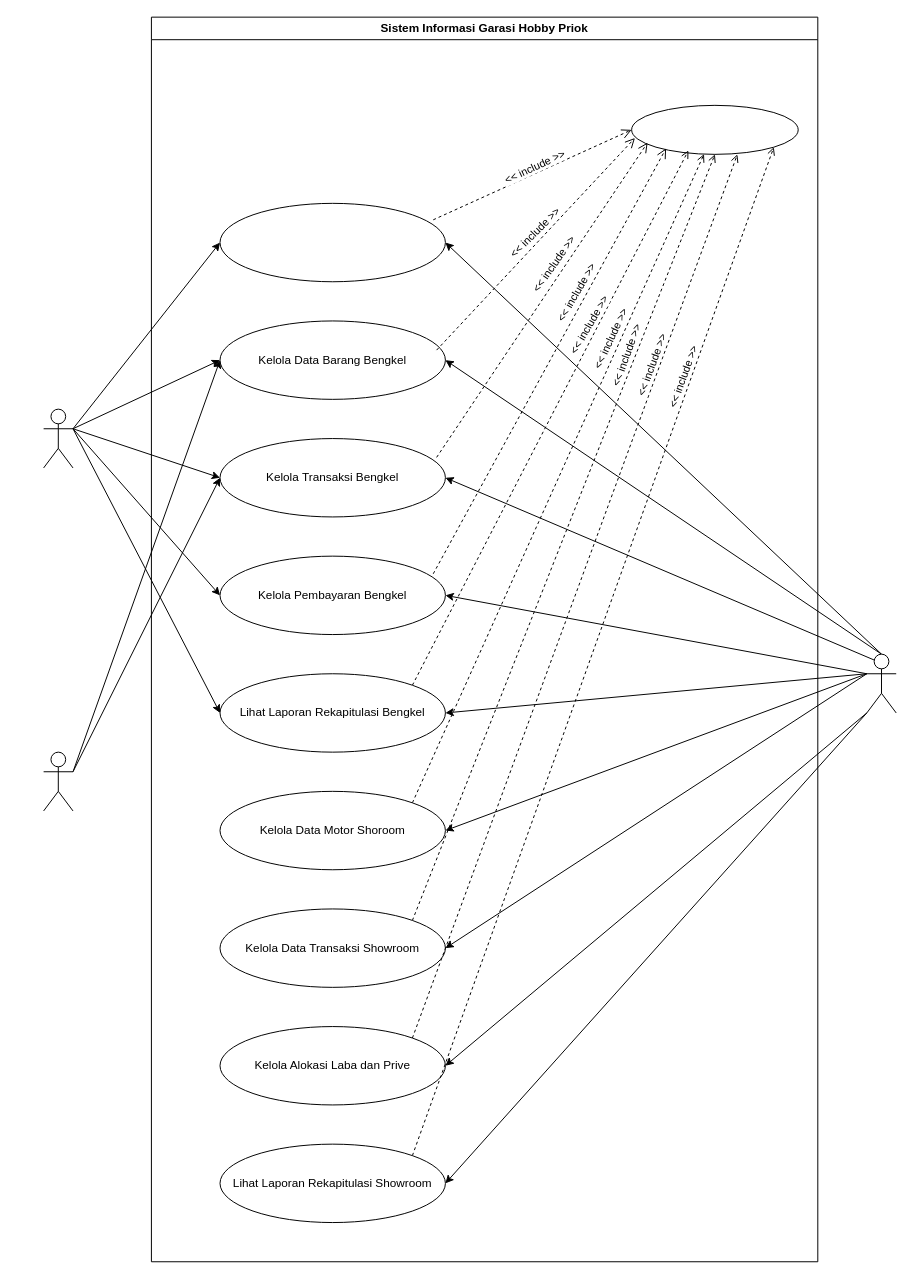
Image size: 915x1279. Some labels were removed from this diagram. The shapes that lost their labels are listed below. From the top down, each one's box as (x1, y1, x2, y2) in pixels, then its label:
(631, 104, 798, 154): Login
(219, 202, 445, 282): Kelola Data Pelanggan Bengke;
(43, 408, 73, 468): Kepala Bengkel
(866, 653, 896, 713): Owner
(43, 751, 73, 811): Staff Bengkel
